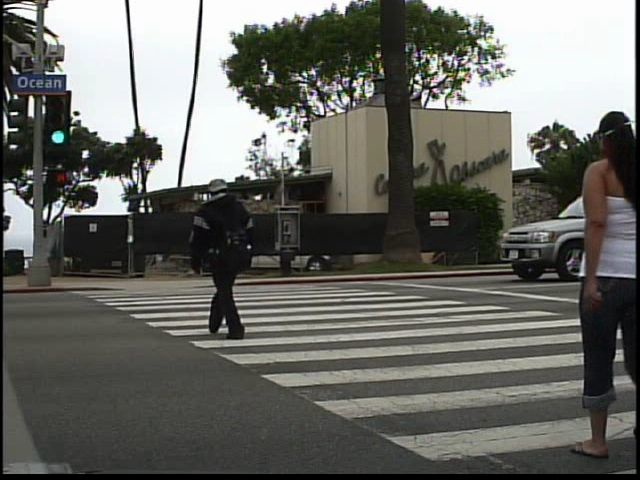person: (555, 102, 638, 468), (184, 166, 274, 351)
